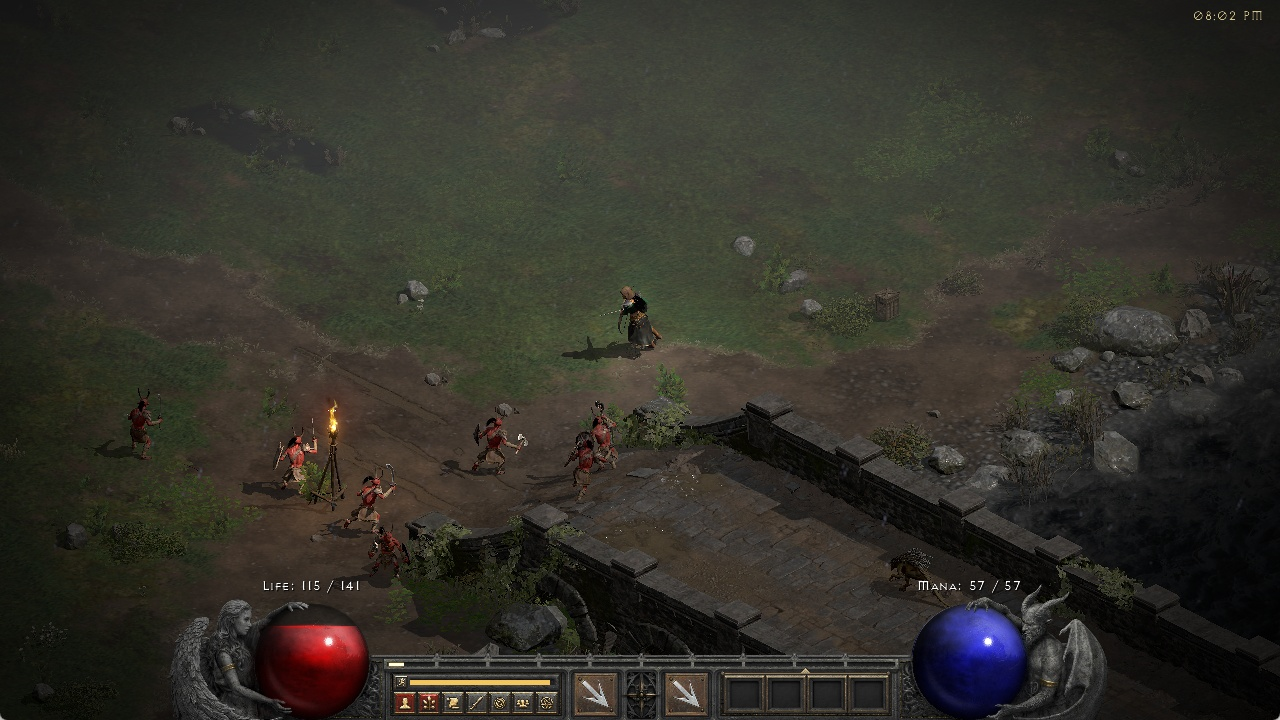fallen: (467, 414, 529, 477), (346, 461, 399, 531), (268, 426, 324, 491), (125, 385, 165, 456), (361, 533, 414, 580), (565, 430, 598, 497), (593, 402, 619, 461)
